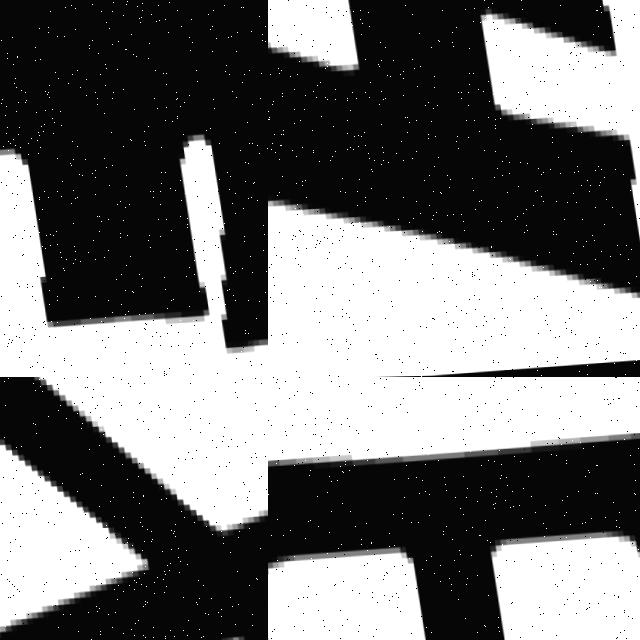E: (268, 440, 640, 640)
F: (0, 0, 268, 377)
H: (268, 0, 640, 301)
X: (0, 377, 268, 640)
